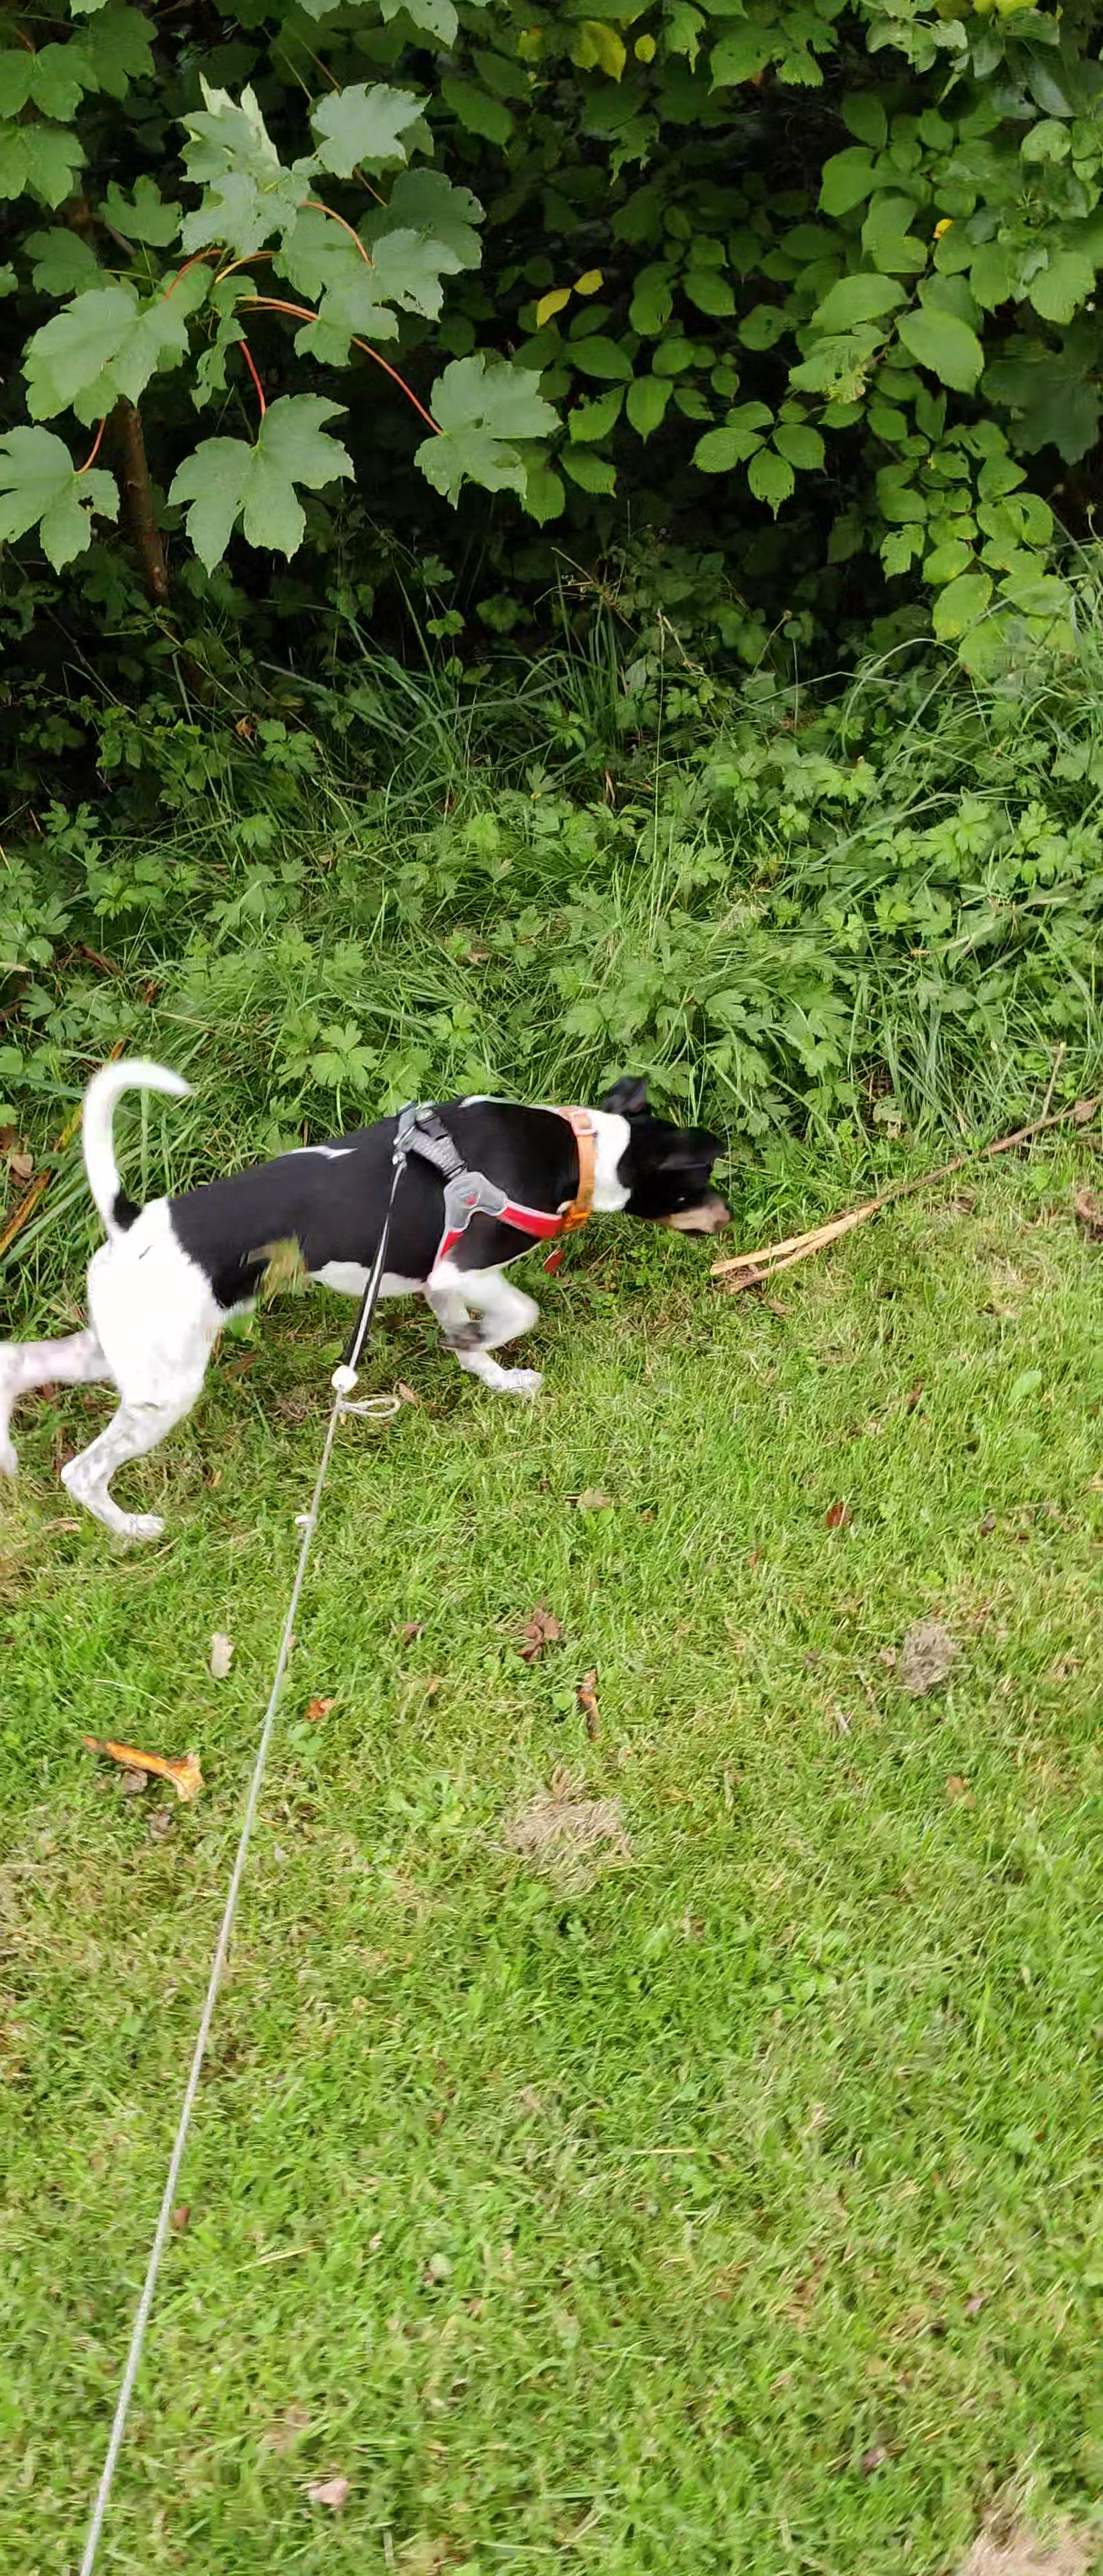Dog: (0, 1038, 743, 1561)
